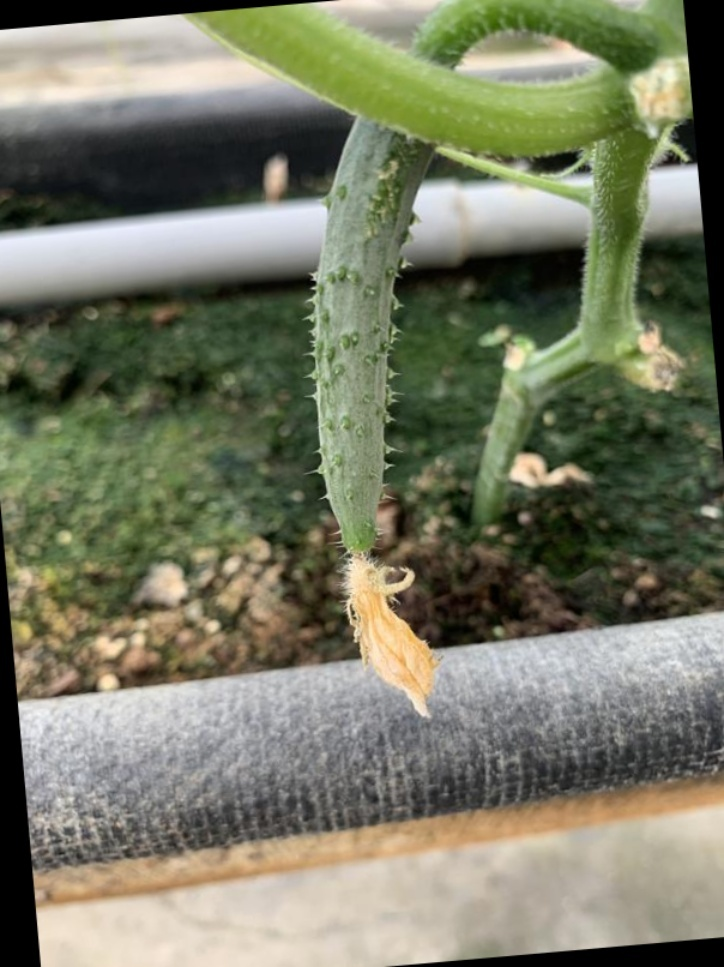bear: (256, 141, 466, 727)
